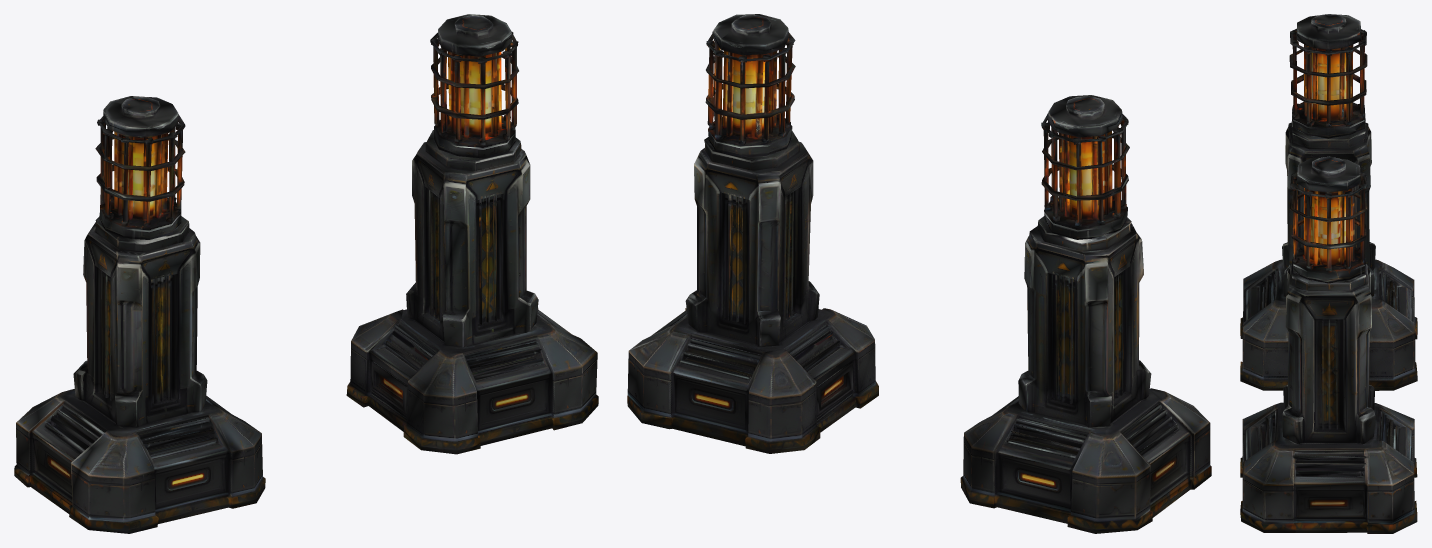
Rendered from beacons_orange.glb.
3 renders of one model, left to right at view 1: azimuth 30°, elevation 25°; view 2: azimuth 150°, elevation 25°; view 3: azimuth 270°, elevation 25°, orthographic. The views are drawn at different scales.
Visible parts, largest first — view 1: mesh_node; view 2: mesh_node; view 3: mesh_node.
Part boxes in pixels (box(x1,y1,x2,y2)): mesh_node: box(14, 14, 598, 533); mesh_node: box(627, 14, 1211, 533); mesh_node: box(1240, 14, 1417, 533).
Bounding box in the file's own units: 1.27 × 0.9 × 0.4351.
1 material, 1 textured.
